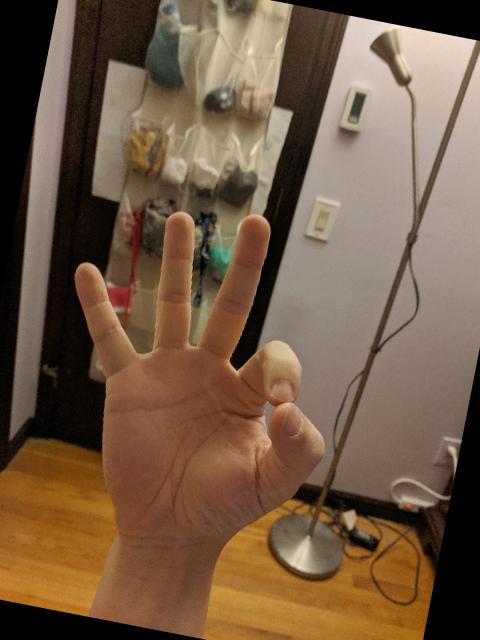F: (22, 178, 372, 582)
